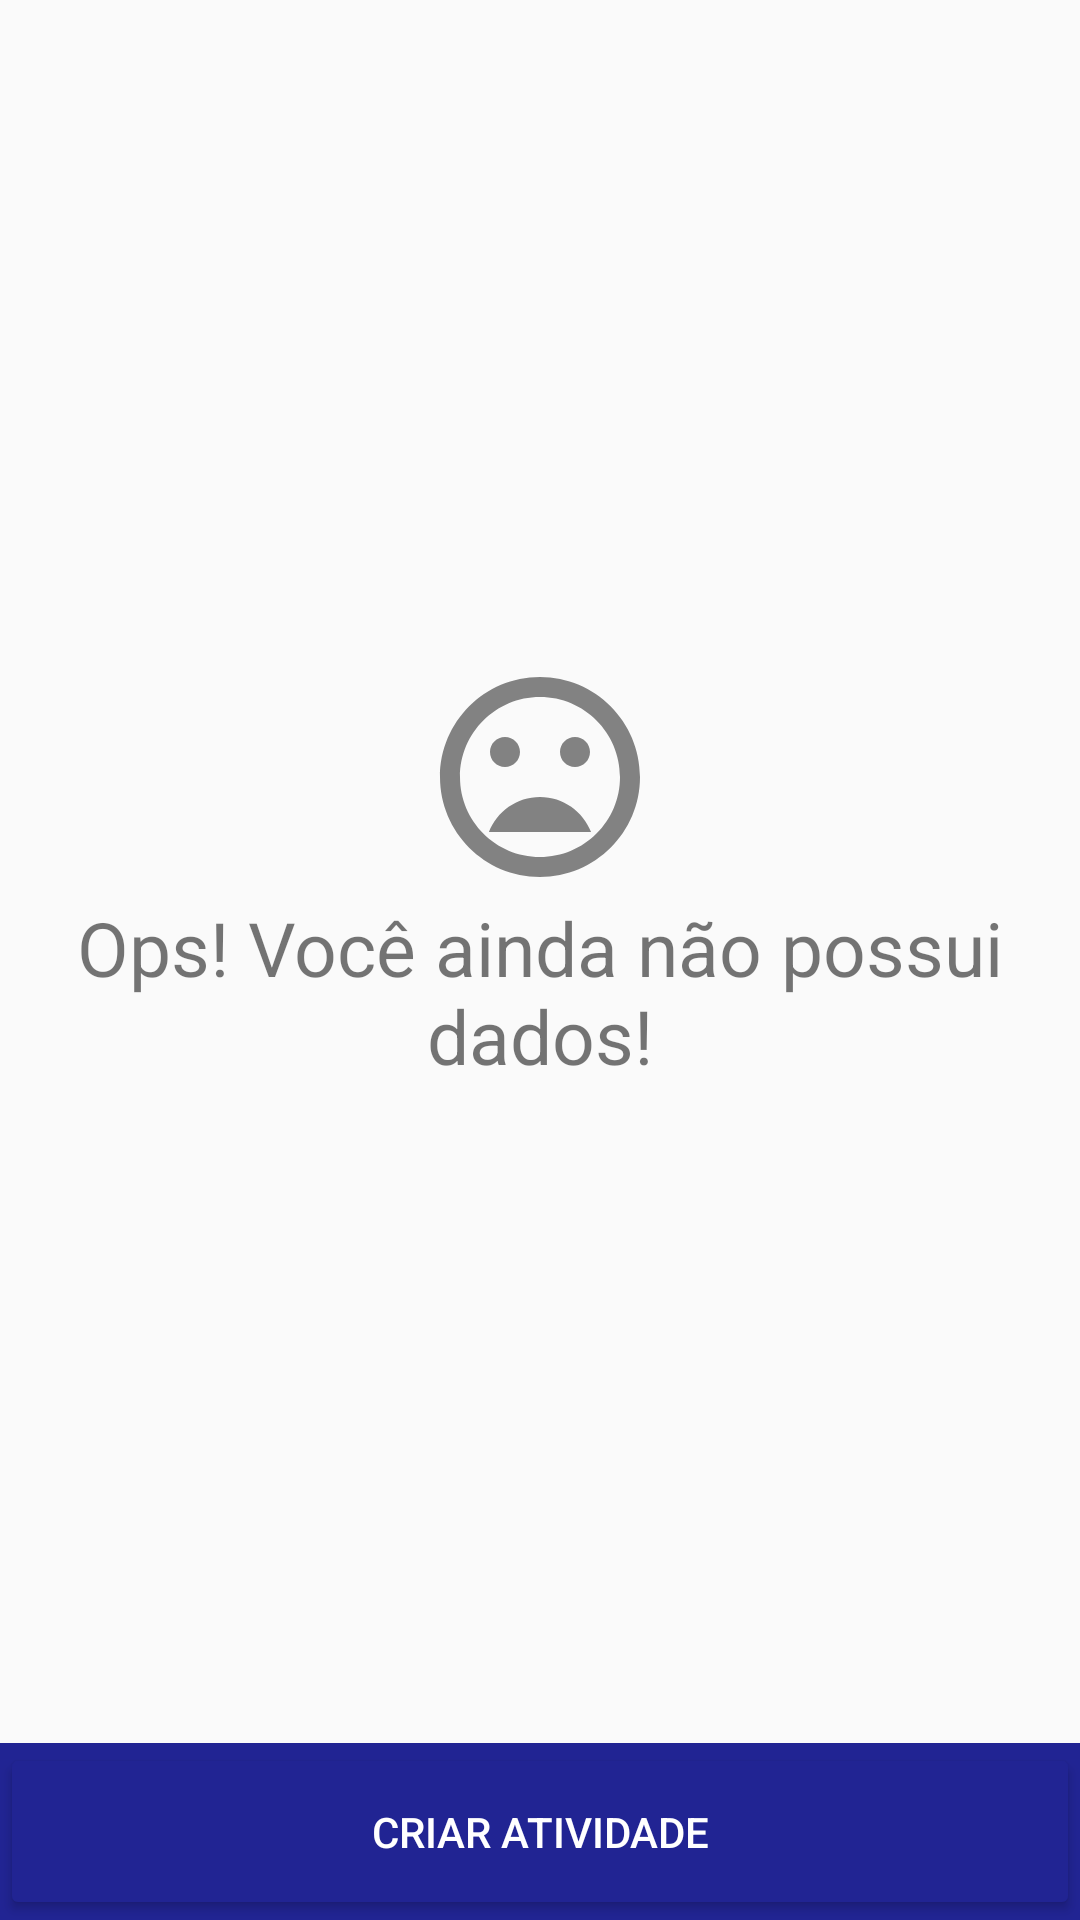

Named icons in this screenshot (1080×1920) and their bounding boxes, (x1, y1, x2, y2):
mood bad: (440, 677, 640, 877)
